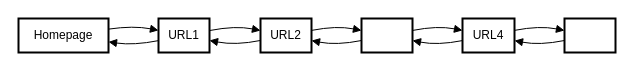
This 633x70 diagram has some shape labels left out. Here are the shapes that lost their labels. From the top down, the centre of each, then its label:
At (x=386, y=35): "URL3".
At (x=589, y=35): "URL5".
